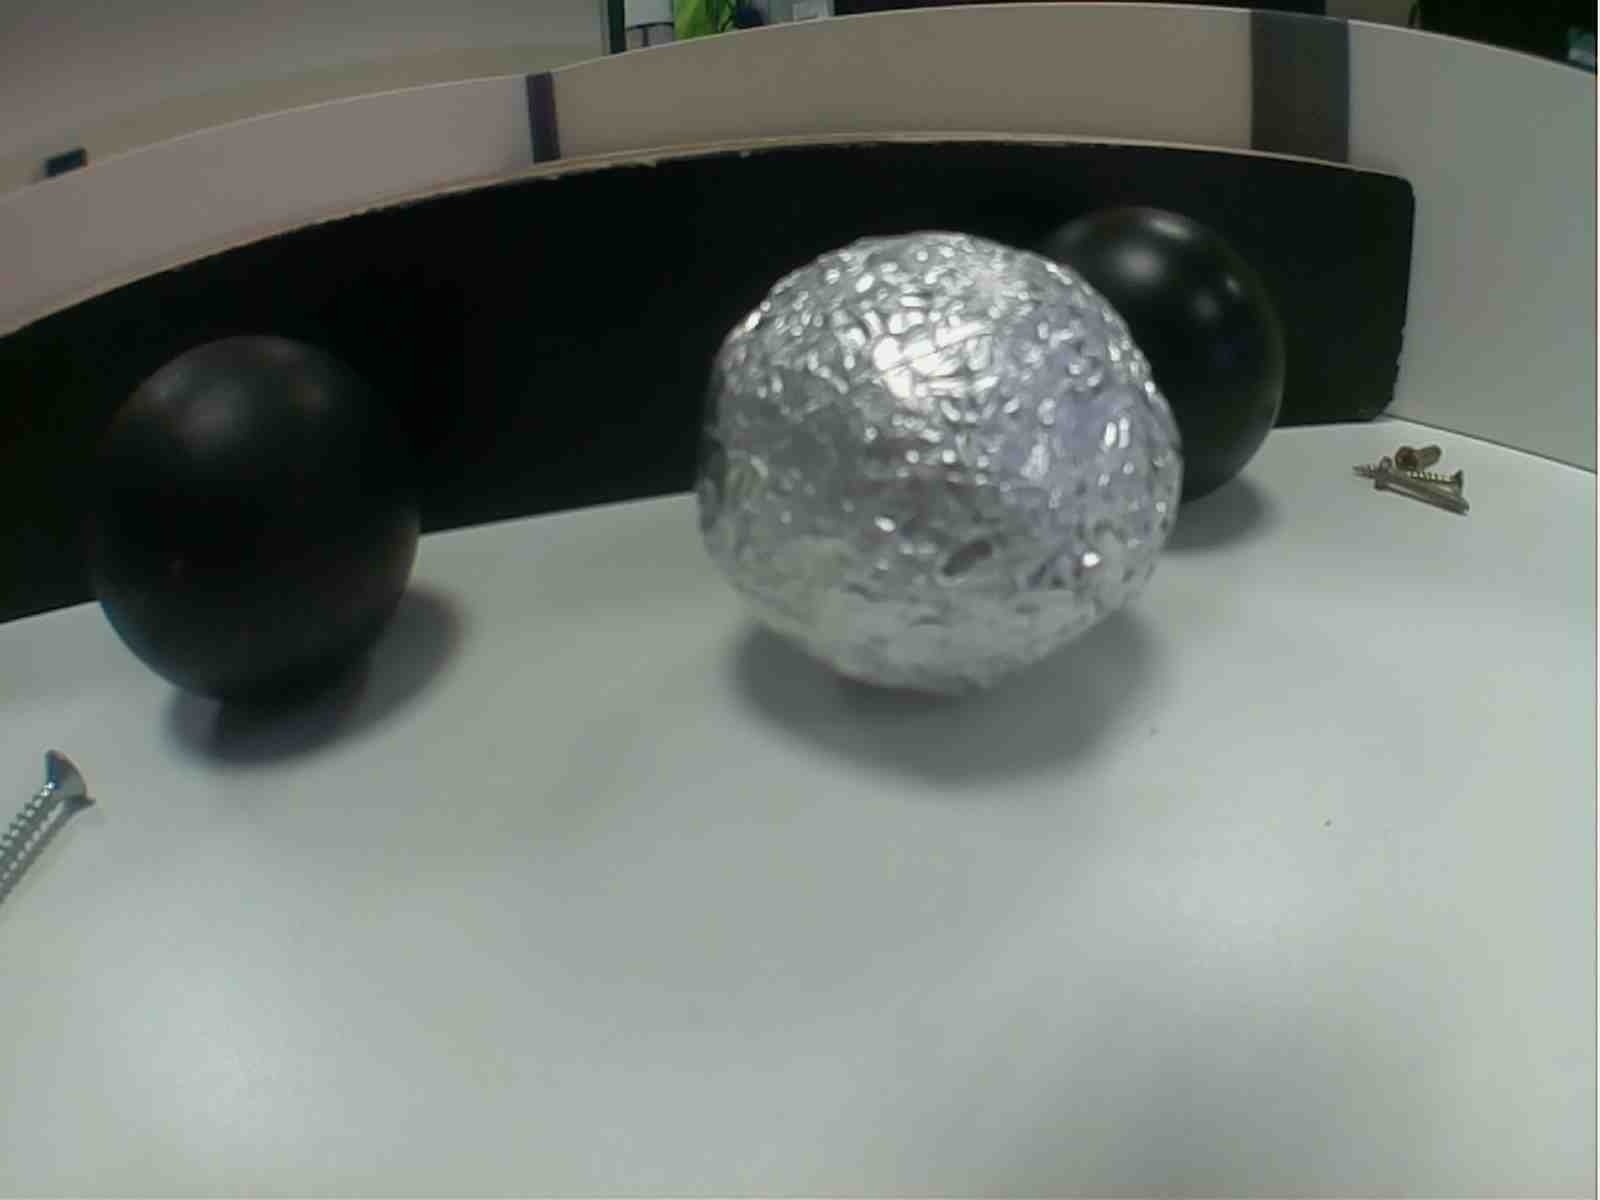bianca: (685, 227, 1186, 700)
nera: (88, 323, 430, 702), (1037, 202, 1279, 516)
